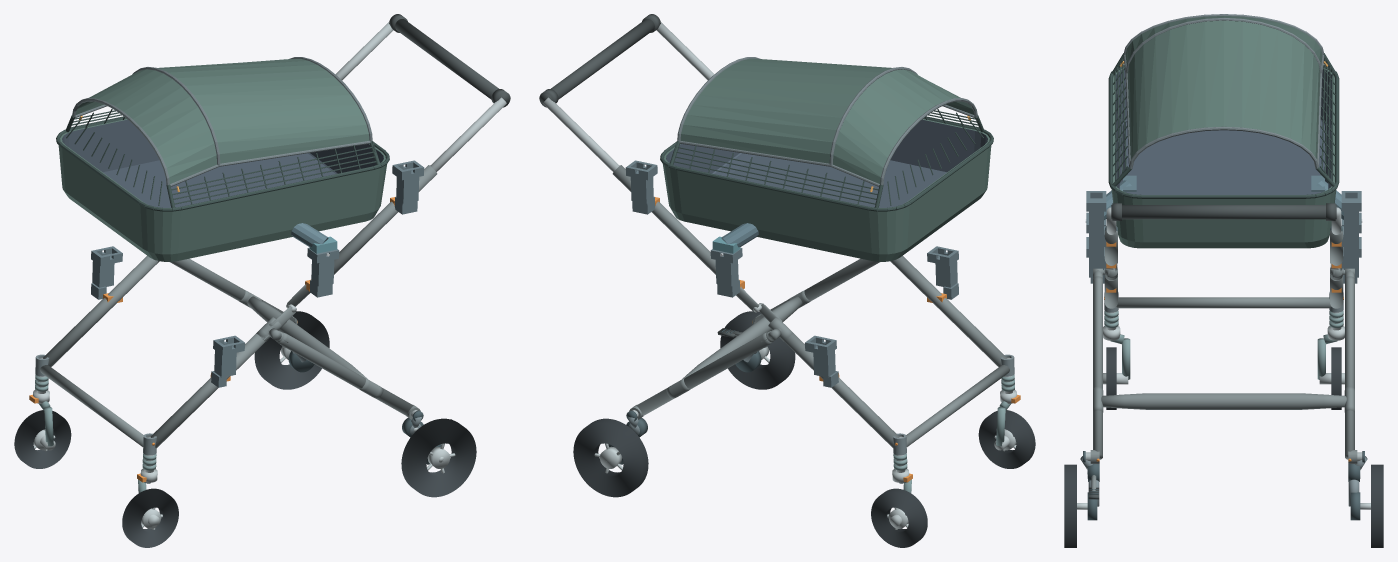
File: S04_w650_state1_wheel_S.glb
The picture shows the model from 3 angles, left to right: view 1: azimuth 30°, elevation 25°; view 2: azimuth 150°, elevation 25°; view 3: azimuth 270°, elevation 25°; orthographic projection. The views are drawn at different scales.
Visible parts, largest first — view 1: S04_Cabin, RL_tire.008, RR_tire.008, FL_tire.008, FR_tire.008, main_lower_1.009, round_handle.008, V46_rear_leg_-1.009, main_lower_-1.009, front_fixed_round_tube.008, main_upper_-1.009, V46_rearbar.009 (+8 smaller); view 2: S04_Cabin, RR_tire.008, FR_tire.008, RL_tire.008, FL_tire.008, main_lower_-1.009, round_handle.008, V46_rear_leg_1.009, main_lower_1.009, front_fixed_round_tube.008, main_upper_1.009, V46_rearbar.009 (+8 smaller); view 3: S04_Cabin, V46_rearbar.009, round_handle.008, front_fixed_round_tube.008, V46_rear_leg_1.009, V46_rear_leg_-1.009, RL_tire.008, RR_tire.008, Universal_Cabin_Receiver_H_1, Universal_Cabin_Receiver_H_-1, S04_Cabin_Mount_M, FL_tire.008 (+5 smaller).
Boxes of the visible parts, x1,y1,x2,y2 form: S04_Cabin: (56, 57, 389, 261); RL_tire.008: (401, 418, 476, 497); RR_tire.008: (254, 311, 329, 389); FL_tire.008: (122, 488, 178, 547); FR_tire.008: (14, 410, 71, 468); main_lower_1.009: (43, 255, 157, 366); round_handle.008: (395, 19, 509, 105); V46_rear_leg_-1.009: (278, 332, 413, 415); main_lower_-1.009: (150, 333, 268, 448); front_fixed_round_tube.008: (40, 365, 143, 446); main_upper_-1.009: (310, 165, 437, 281); V46_rearbar.009: (247, 296, 367, 379); S04_Cabin: (660, 57, 993, 261); RR_tire.008: (573, 418, 648, 497); FR_tire.008: (871, 488, 927, 547); RL_tire.008: (720, 311, 795, 389); FL_tire.008: (978, 410, 1035, 468); main_lower_-1.009: (891, 255, 1006, 366); round_handle.008: (540, 19, 654, 105); V46_rear_leg_1.009: (636, 332, 771, 415); main_lower_1.009: (781, 333, 899, 448); front_fixed_round_tube.008: (906, 365, 1009, 446); main_upper_1.009: (612, 165, 739, 281); V46_rearbar.009: (682, 296, 802, 379); S04_Cabin: (1108, 14, 1339, 248); V46_rearbar.009: (1101, 393, 1346, 409); round_handle.008: (1111, 205, 1336, 219); front_fixed_round_tube.008: (1116, 297, 1331, 308); V46_rear_leg_1.009: (1345, 276, 1354, 459); V46_rear_leg_-1.009: (1093, 276, 1102, 459); RL_tire.008: (1064, 464, 1076, 547); RR_tire.008: (1371, 464, 1383, 547); Universal_Cabin_Receiver_H_1: (1341, 191, 1361, 246); Universal_Cabin_Receiver_H_-1: (1086, 191, 1106, 246); S04_Cabin_Mount_M: (1085, 175, 1362, 222); FL_tire.008: (1106, 347, 1116, 409).
Bounding box in the file's own units: 1.12 × 1.13 × 0.766.
